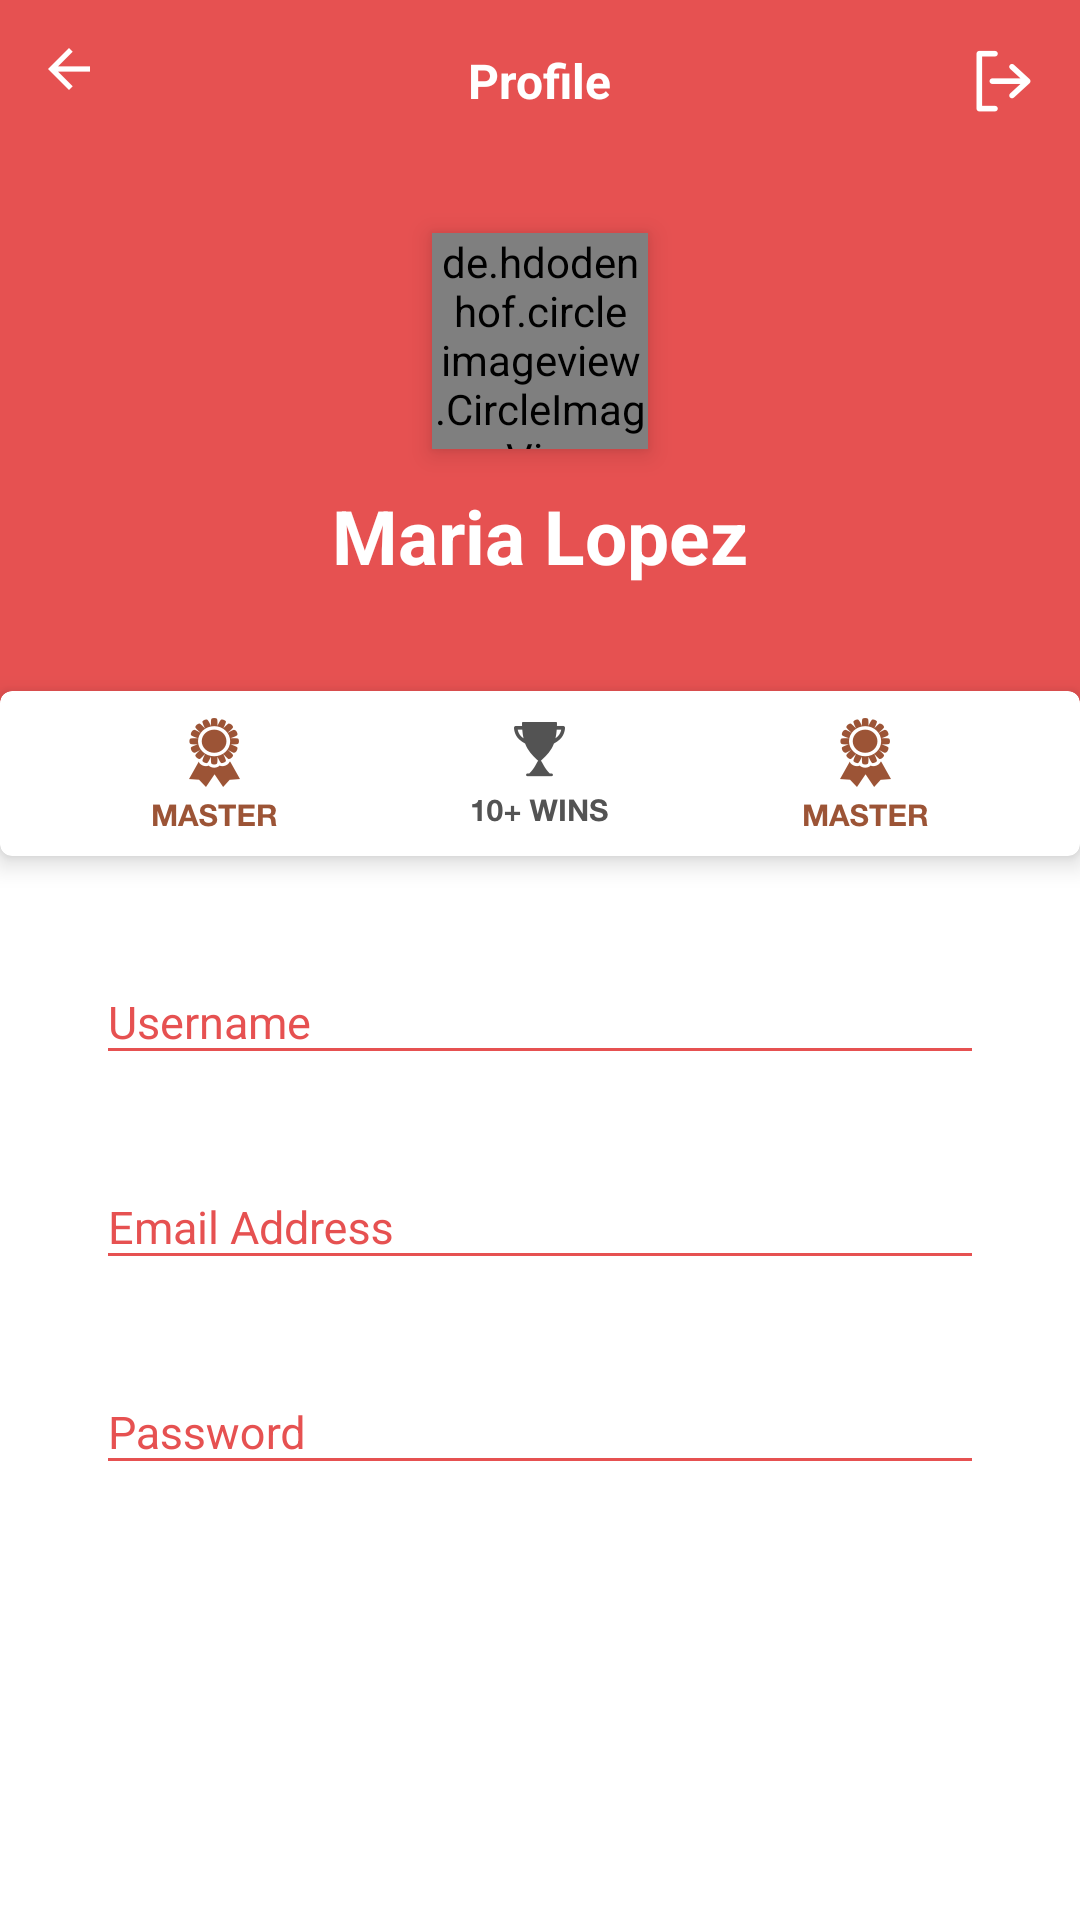

Named icons in this screenshot (1080 × 1920) and their centers, [x,y]:
back arrow: [69,69]
